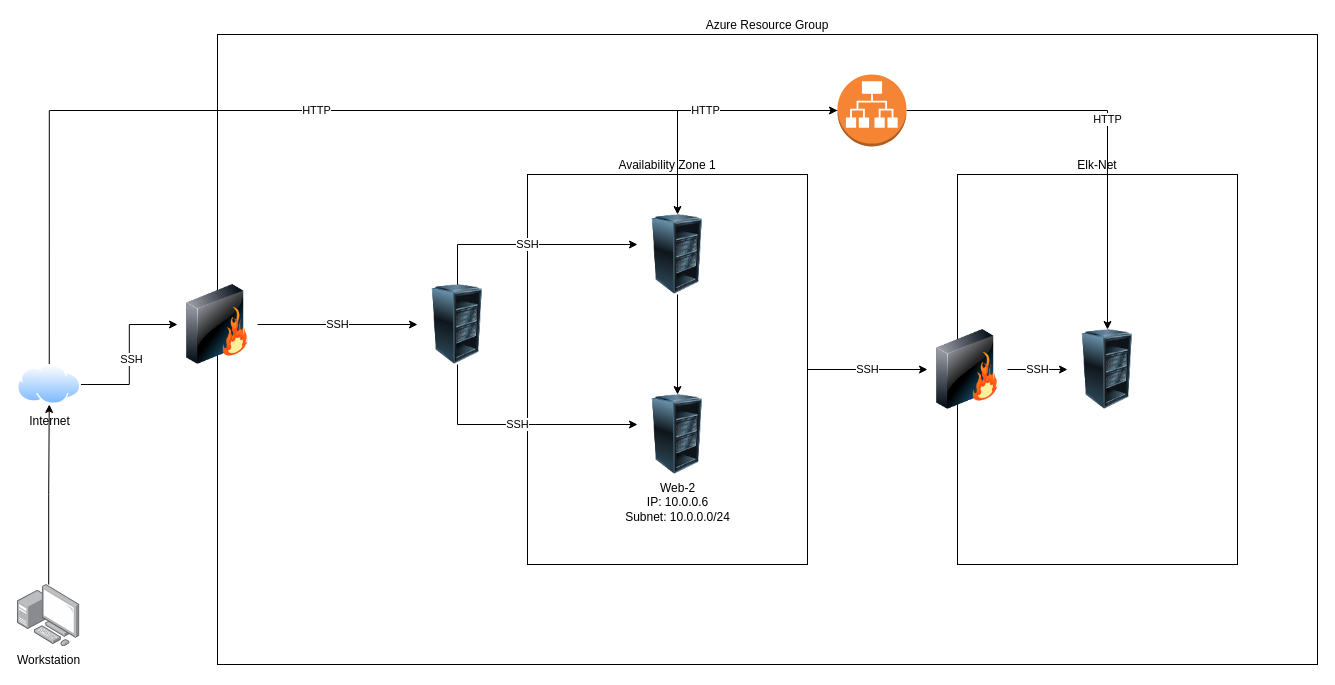
This 1335x685 diagram has some shape labels left out. The shapes that lost their labels are listed below. From the top down, each one's centre as x and y in pixels, then its label:
At point (677, 254): "Web-1 IP: 10.0.0.5 Subnet: 10.0.0.0/24".
At point (457, 324): "Jumpbox IP: 10.0.0.4 Subnet: 10.0.0.0/24".
At point (1107, 369): "ELK-VM IP: 10.2.0.4 Subnet: 10.2.0.0/24".
